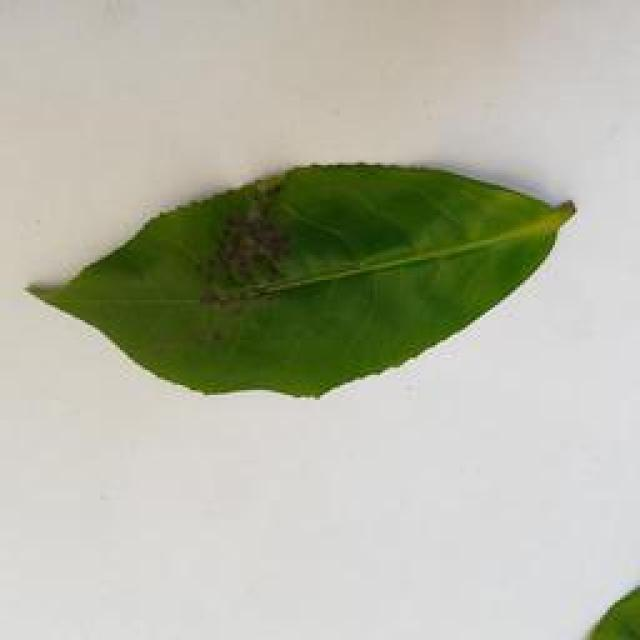Helopeltis: (35, 163, 584, 399)
